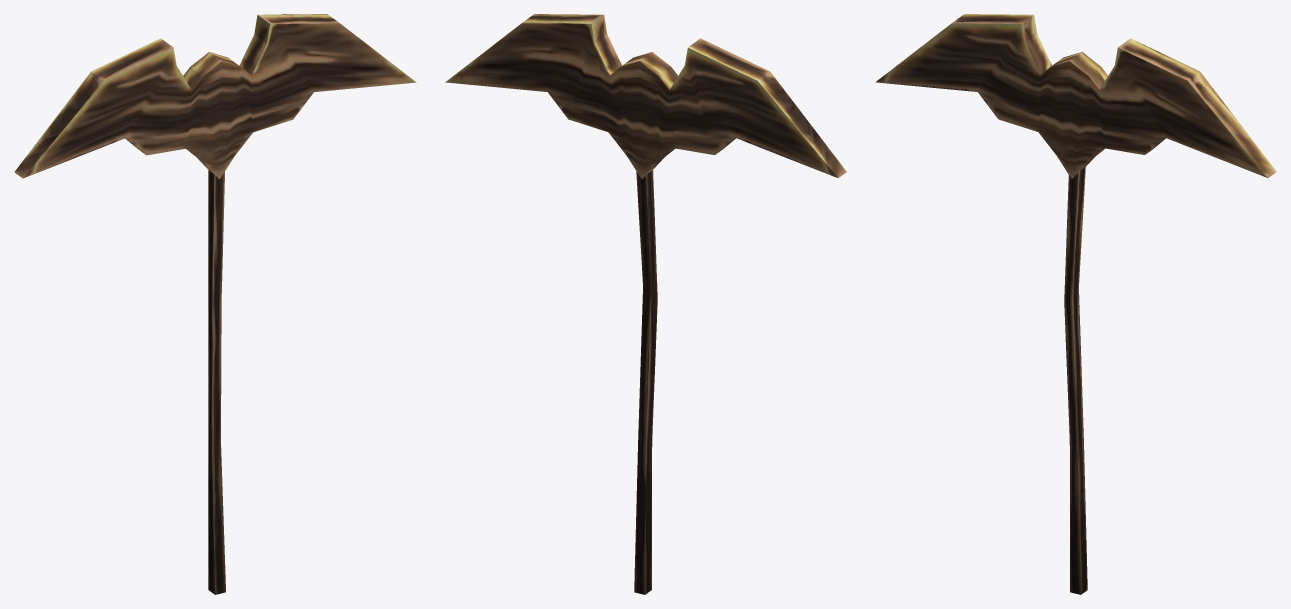
File: Vampire_Village_Props_16.FBX
3 renders of one model, left to right at view 1: azimuth 30°, elevation 25°; view 2: azimuth 150°, elevation 25°; view 3: azimuth 330°, elevation 25°, orthographic.
Parts seen in each view (by area): view 1: Vampire_Village_Props_16; view 2: Vampire_Village_Props_16; view 3: Vampire_Village_Props_16.
Boxes of the visible parts, box(x1,y1,x2,y2) form: Vampire_Village_Props_16: box(14, 14, 416, 594); Vampire_Village_Props_16: box(445, 14, 846, 594); Vampire_Village_Props_16: box(875, 14, 1276, 594).
Size of the model in its own units: 224 by 304 by 12.47.
